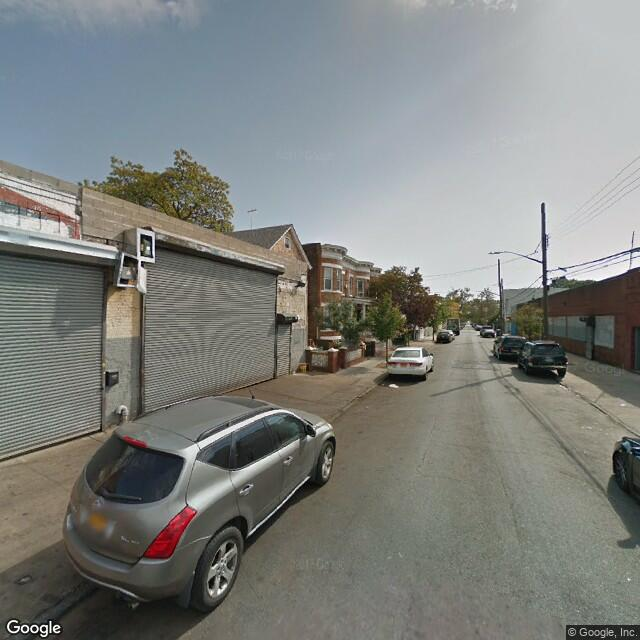litter: (17, 574, 31, 583), (387, 382, 400, 390), (618, 402, 626, 408)
